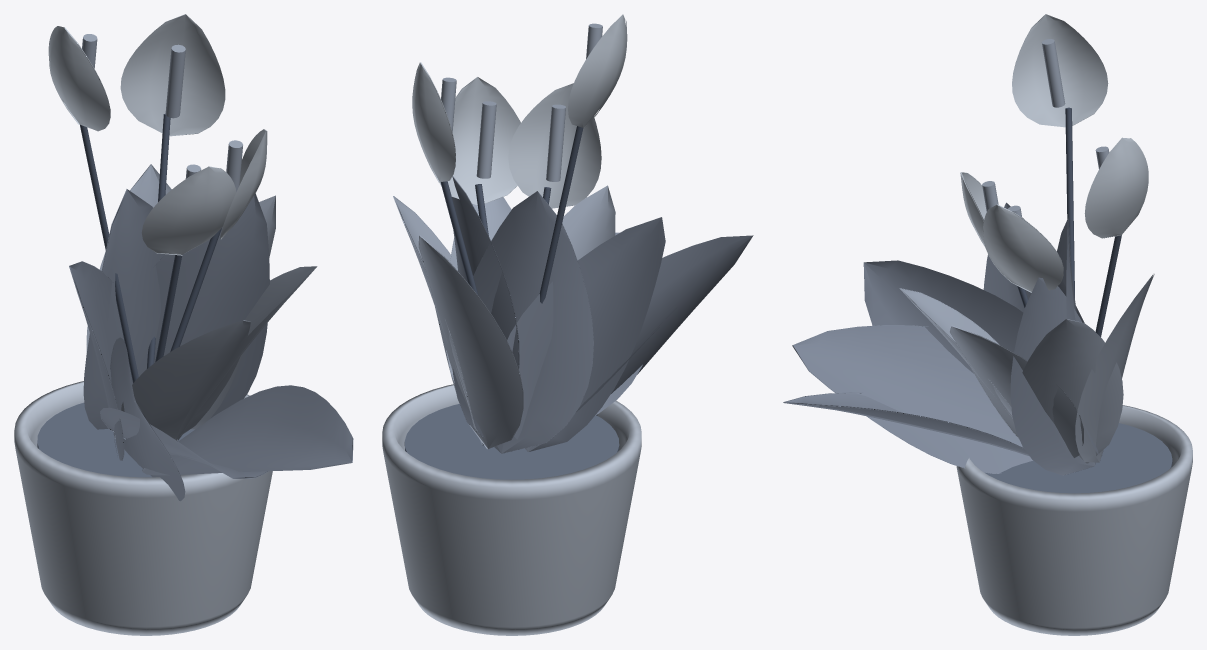
Rendered from 红掌-lite.glb.
3 views of the same model, side by side, from view 1: azimuth 30°, elevation 25°; view 2: azimuth 150°, elevation 25°; view 3: azimuth 270°, elevation 25° (orthographic). The views are drawn at different scales.
Parts seen in each view (by area): view 1: soft, body, accent, light, glass, dark, flowercenter; view 2: body, soft, accent, light, glass, flowercenter, dark; view 3: soft, body, accent, light, glass, dark, flowercenter.
Part boxes in pixels (<box>): soft: <box>69,189,353,501</box>; body: <box>14,381,272,635</box>; accent: <box>48,14,267,255</box>; light: <box>86,164,317,441</box>; glass: <box>37,402,194,477</box>; dark: <box>80,113,221,383</box>; flowercenter: <box>82,34,242,191</box>; body: <box>382,384,641,635</box>; soft: <box>452,176,753,453</box>; accent: <box>412,14,627,208</box>; light: <box>393,185,615,449</box>; glass: <box>404,404,619,479</box>; flowercenter: <box>441,23,602,181</box>; dark: <box>440,126,583,303</box>; soft: <box>783,202,1102,475</box>; body: <box>956,405,1192,635</box>; accent: <box>960,14,1148,292</box>; light: <box>899,274,1154,463</box>; glass: <box>985,423,1172,493</box>; dark: <box>1017,107,1121,336</box>; flowercenter: <box>982,39,1109,217</box>.
Size of the model in its own units: 0.2922 by 0.66 by 0.4525.
